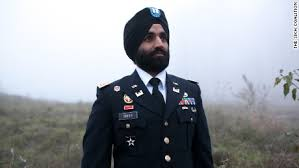helmet: (124, 4, 172, 77)
